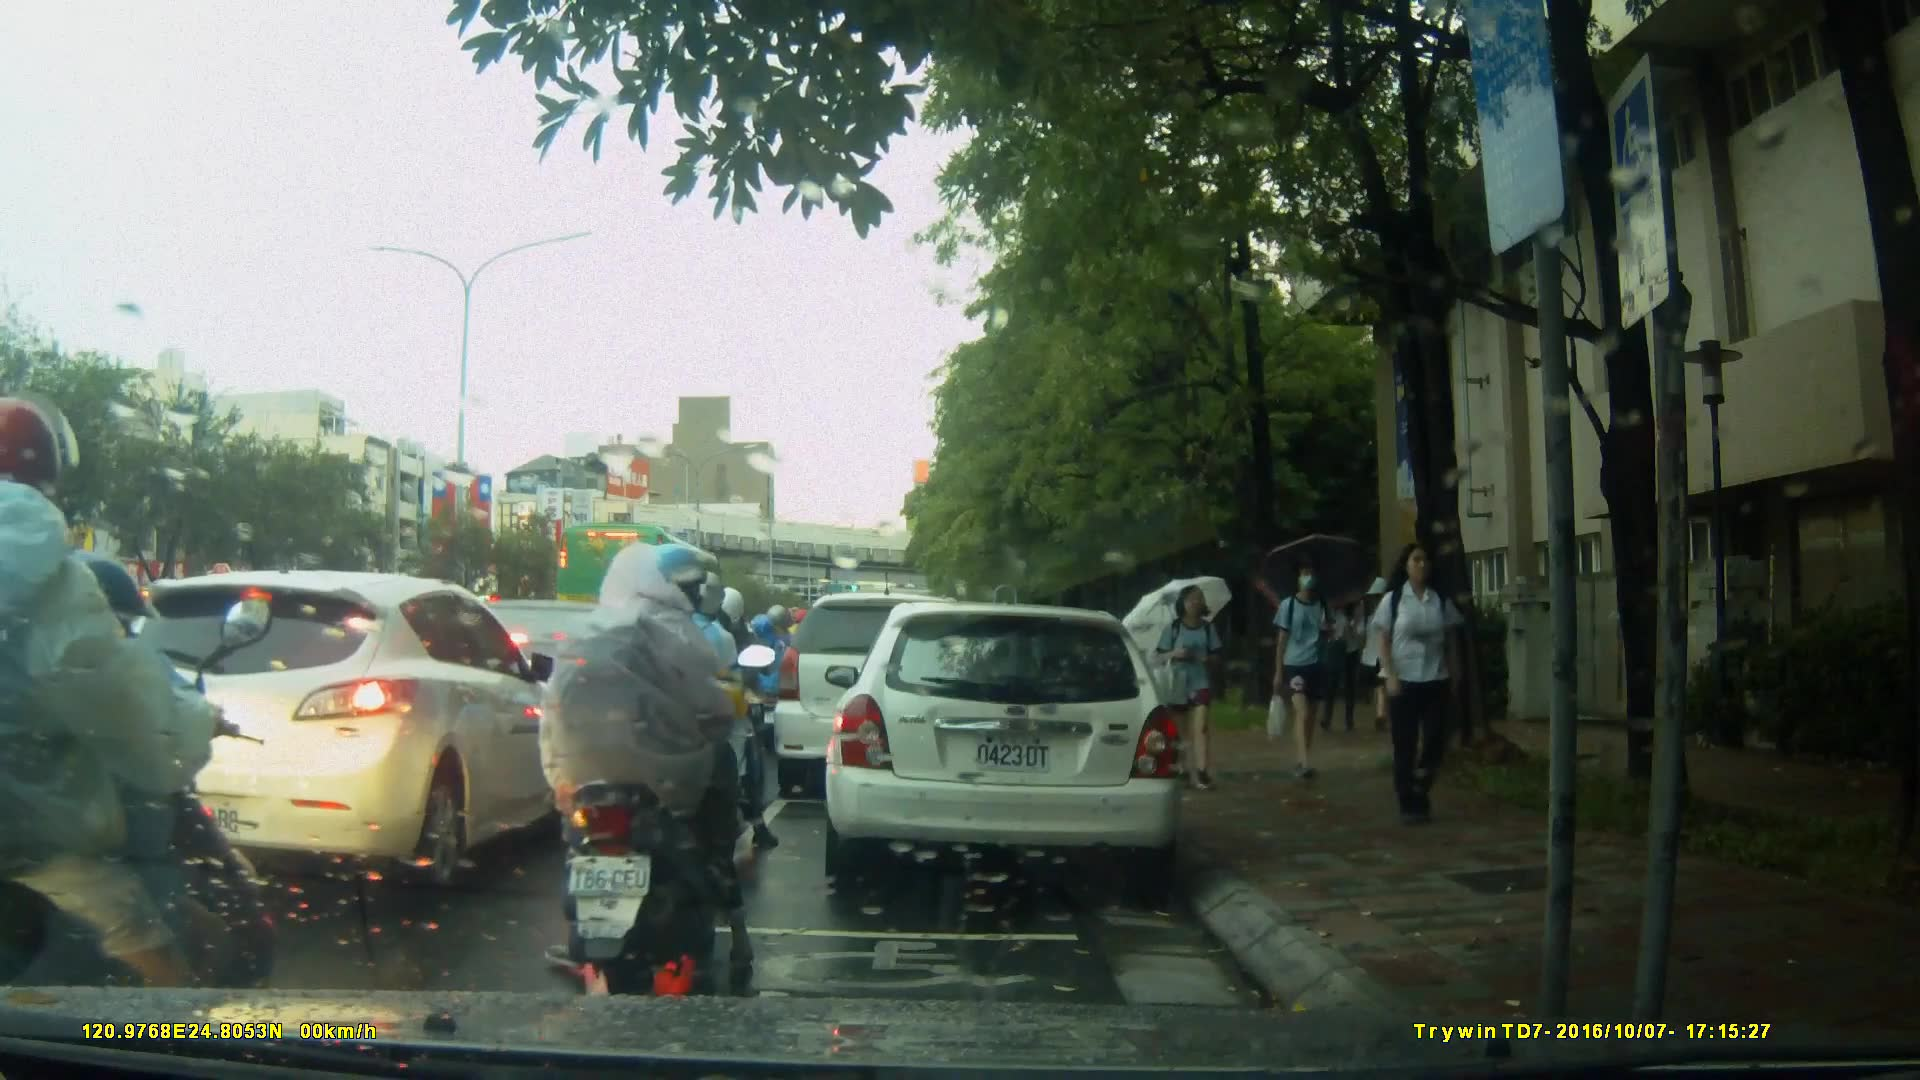pedestrian: (1367, 536, 1482, 836), (1257, 554, 1340, 790), (1158, 581, 1224, 792), (1134, 605, 1175, 740)
rider: (2, 389, 309, 1068), (530, 542, 773, 986), (611, 563, 748, 867), (645, 580, 759, 836), (737, 601, 798, 746)
vehicle: (93, 569, 590, 883), (822, 604, 1186, 882), (774, 595, 995, 802), (554, 519, 739, 666)
